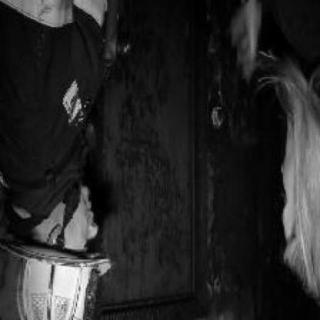other: (14, 6, 94, 28), (99, 3, 125, 69)
